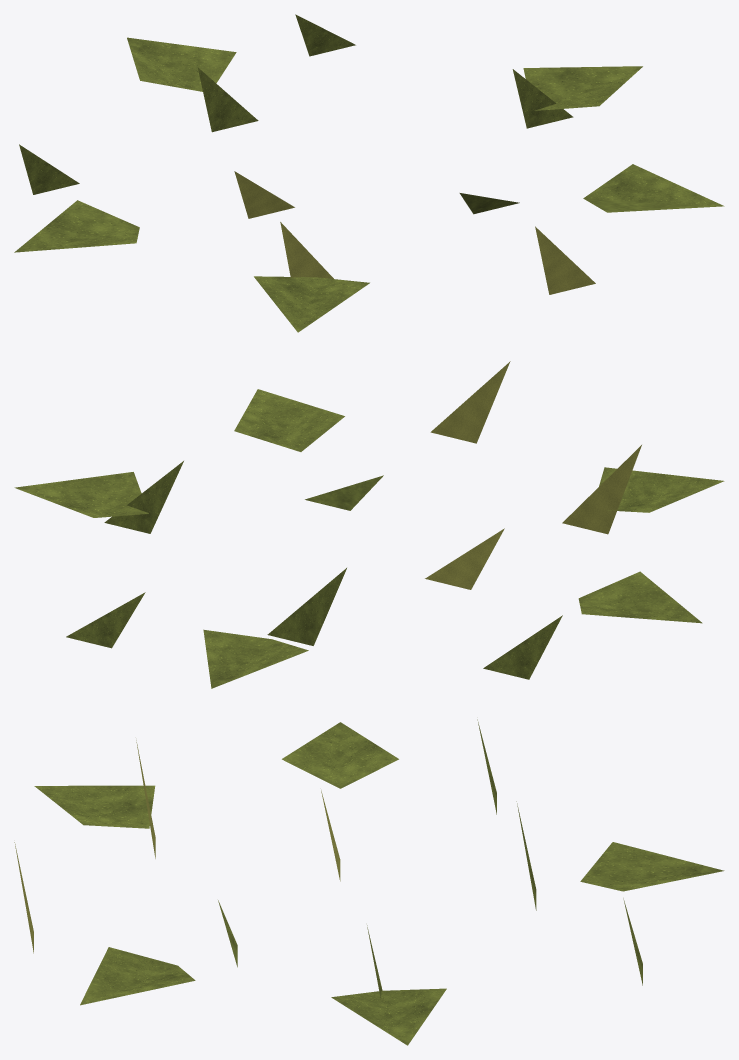
The model's file is grass-0.fbx.
3 renders of one model, top to bottom at view 1: azimuth 30°, elevation 25°; view 2: azimuth 150°, elevation 25°; view 3: azimuth 270°, elevation 25°, orthographic.
Parts seen in each view (by area): view 1: grass-0__Geometry; view 2: grass-0__Geometry; view 3: grass-0__Geometry.
Boxes of the visible parts, box(x1,y1,x2,y2) form: grass-0__Geometry: box(14, 14, 724, 332); grass-0__Geometry: box(14, 361, 724, 688); grass-0__Geometry: box(14, 719, 724, 1045).
Size of the model in its own units: 0.7641 by 0.0988 by 0.7091.
